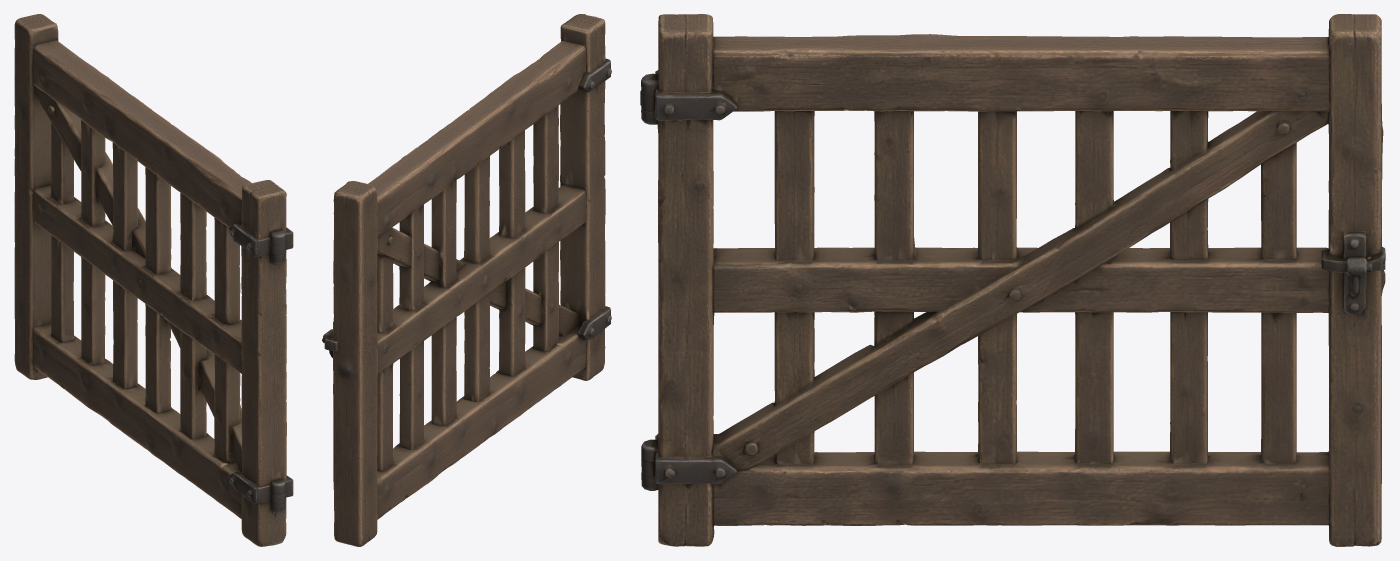
File: timber-gate-tripo.glb
3 renders of one model, left to right at view 1: azimuth 30°, elevation 25°; view 2: azimuth 150°, elevation 25°; view 3: azimuth 270°, elevation 25°, orthographic. The views are drawn at different scales.
Visible parts, largest first — view 1: tripo_node_ae5b8f89-2ec7-41a7-98e5-53667d0764ba; view 2: tripo_node_ae5b8f89-2ec7-41a7-98e5-53667d0764ba; view 3: tripo_node_ae5b8f89-2ec7-41a7-98e5-53667d0764ba.
Part boxes in pixels (bbox=[...]): tripo_node_ae5b8f89-2ec7-41a7-98e5-53667d0764ba: bbox=[14, 14, 293, 546]; tripo_node_ae5b8f89-2ec7-41a7-98e5-53667d0764ba: bbox=[322, 14, 611, 546]; tripo_node_ae5b8f89-2ec7-41a7-98e5-53667d0764ba: bbox=[640, 14, 1385, 546].
Bounding box in the file's own units: 0.1169 × 0.7648 × 1.
Materials: 1 (1 with a texture image).
